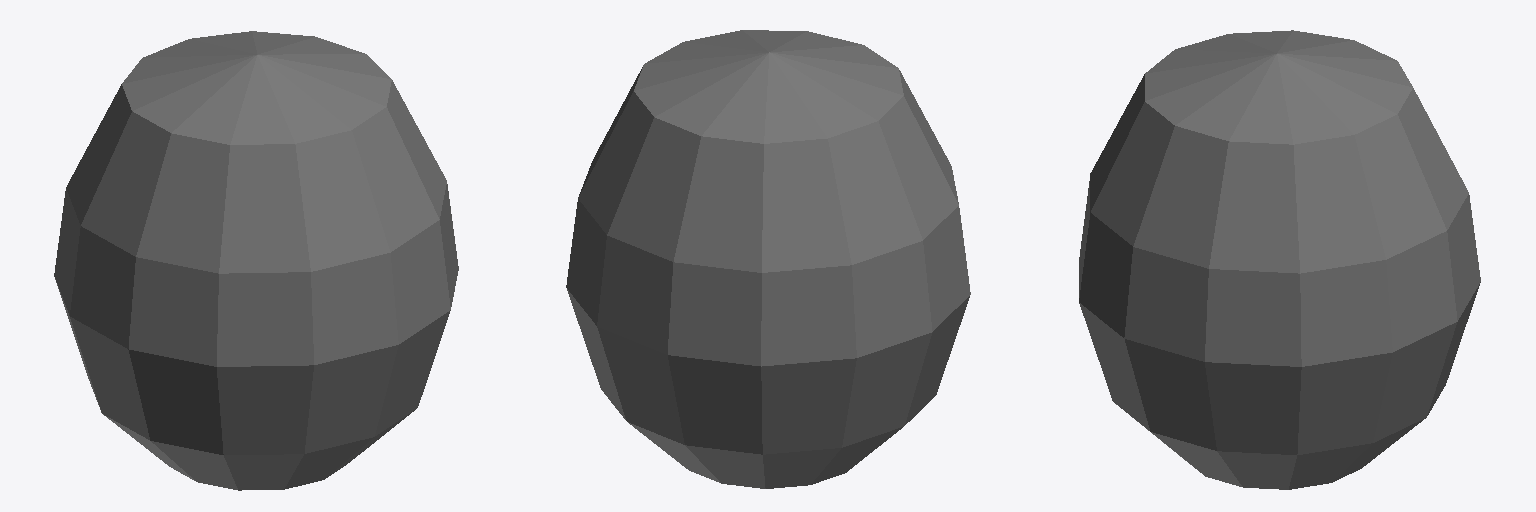
File: WaterMelon.obj
3 views of the same model, side by side, from view 1: azimuth 30°, elevation 25°; view 2: azimuth 150°, elevation 25°; view 3: azimuth 270°, elevation 25° (orthographic).
Visible parts, largest first — view 1: Sphere001; view 2: Sphere001; view 3: Sphere001.
Boxes of the visible parts, box(x1,y1,x2,y2) form: Sphere001: box(54, 31, 458, 490); Sphere001: box(566, 30, 970, 488); Sphere001: box(1079, 30, 1480, 489).
Size of the model in its own units: 953 by 1051 by 946.